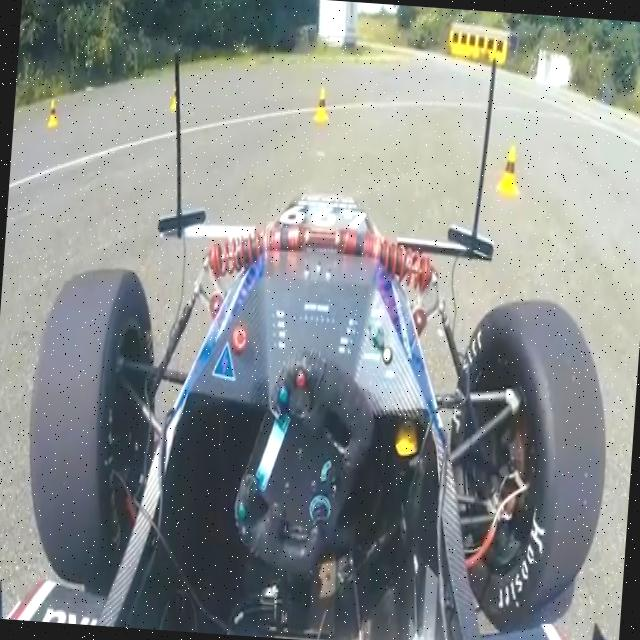yellow_cone: (496, 142, 522, 198), (312, 86, 330, 122), (46, 98, 59, 130), (170, 81, 182, 112)
